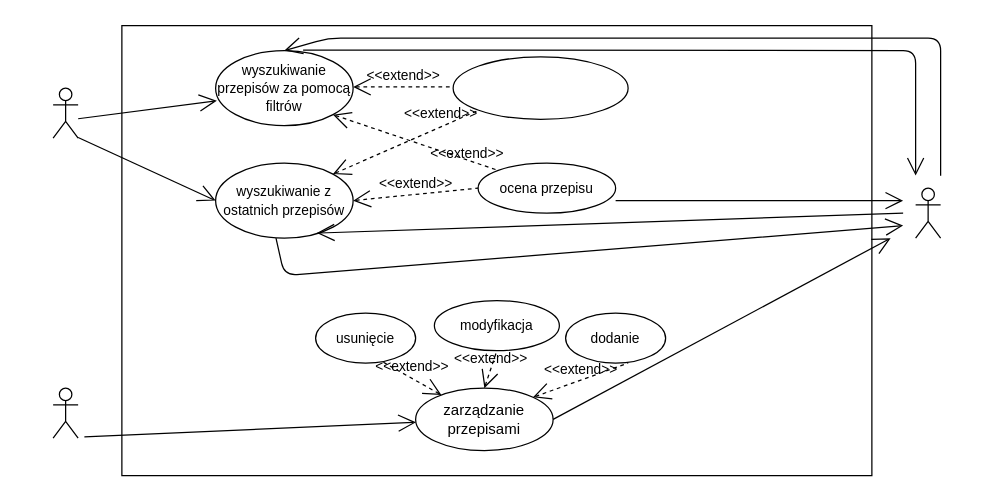
Image size: 993x498. Some labels were removed from this diagram. The box of each missing label's shape, as (x1, y1, x2, y2) in pixels:
Administrator: (52, 387, 78, 438)
Baza danych: (914, 187, 941, 238)
skalowanie składników względem ilości osób: (452, 56, 628, 119)
Użytkownik: (52, 87, 78, 138)
